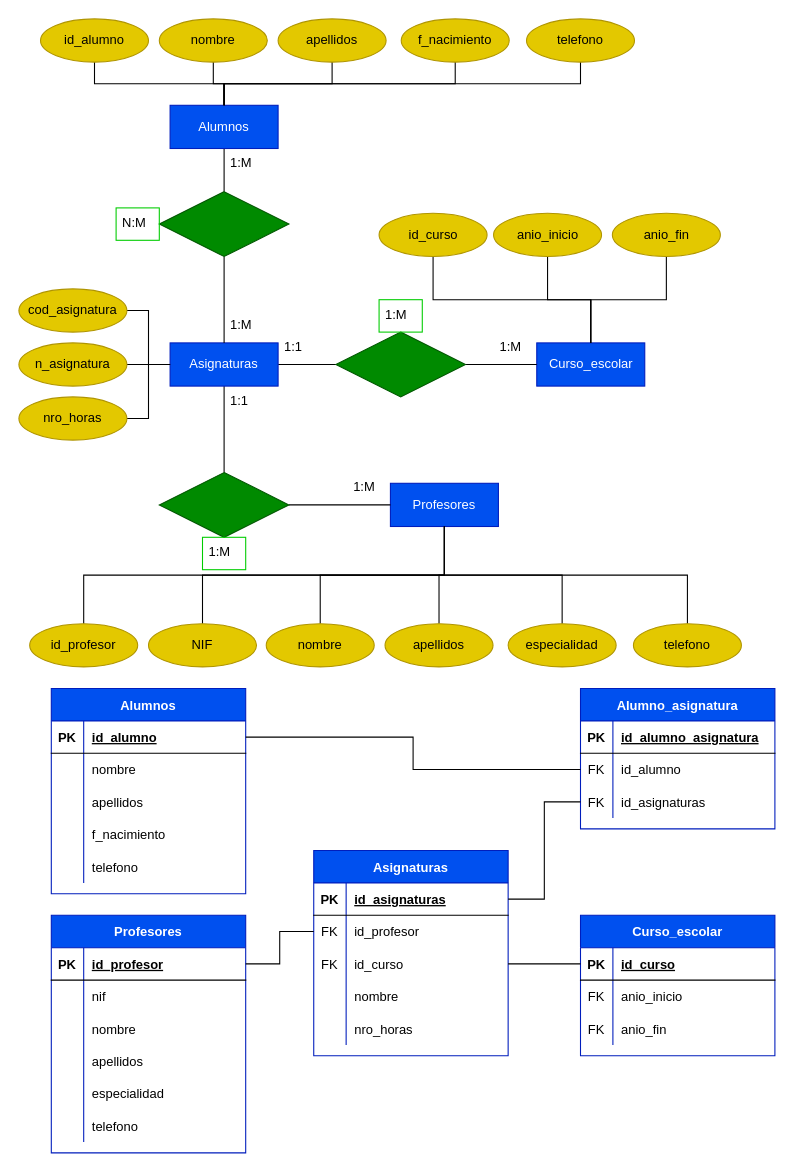
Some shapes in this 794 by 1172 pixel diagram are drawn without their labels. The shapes that lost their labels are listed below. From the top down, each one's centre as x and y in pixels, then its label:
At (223,223): "matricular".
At (400,364): "pertenece".
At (223,504): "impartir".
